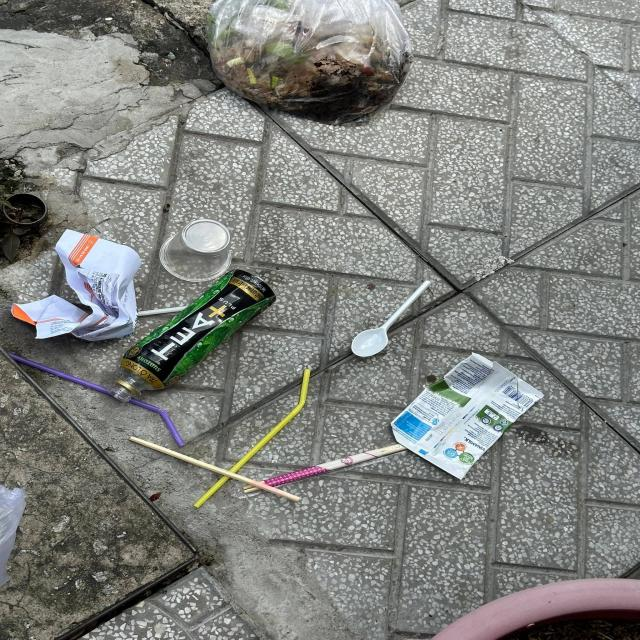bottle: (106, 268, 278, 402)
drinking straw: (8, 352, 186, 448), (192, 369, 310, 509), (138, 306, 188, 316)
packet: (390, 352, 544, 480)
paper: (11, 229, 142, 342)
plastic glass: (159, 219, 232, 282)
plastic utensil: (351, 280, 431, 357)
trash bag: (206, 0, 414, 126)
